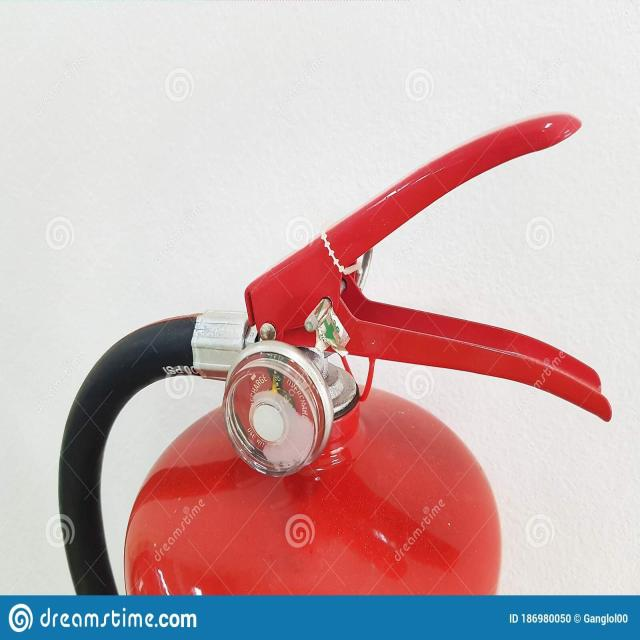fire_extinguisher: (57, 105, 616, 597)
